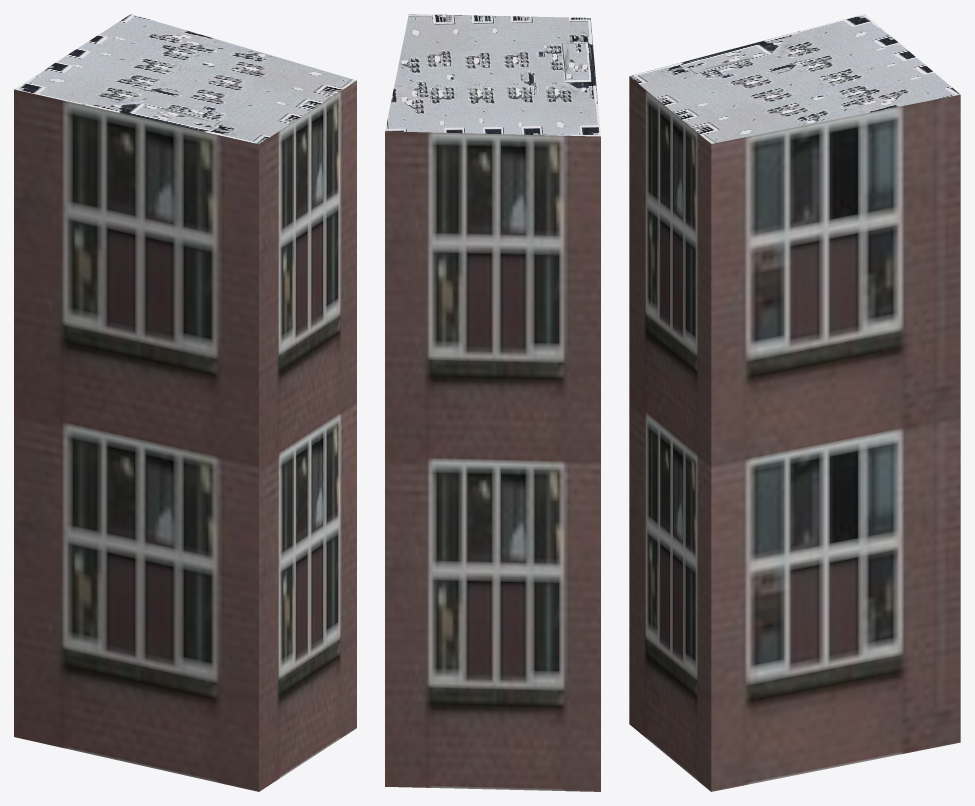
File: ResTex__4226.fbx
The picture shows the model from 3 angles, left to right: view 1: azimuth 30°, elevation 25°; view 2: azimuth 150°, elevation 25°; view 3: azimuth 270°, elevation 25°; orthographic projection.
Visible parts, largest first — view 1: CityEngineMaterial_12_m, CityEngineMaterial_m; view 2: CityEngineMaterial_12_m, CityEngineMaterial_m; view 3: CityEngineMaterial_12_m, CityEngineMaterial_m.
Boxes of the visible parts, x1,y1,x2,y2 form: CityEngineMaterial_12_m: (14,81,356,791); CityEngineMaterial_m: (14,14,356,144); CityEngineMaterial_12_m: (385,131,600,791); CityEngineMaterial_m: (385,14,600,136); CityEngineMaterial_12_m: (629,76,960,791); CityEngineMaterial_m: (629,14,960,143).
Bounding box in the file's own units: 2.58 × 6 × 2.78.
Materials: 2 (2 with a texture image).
